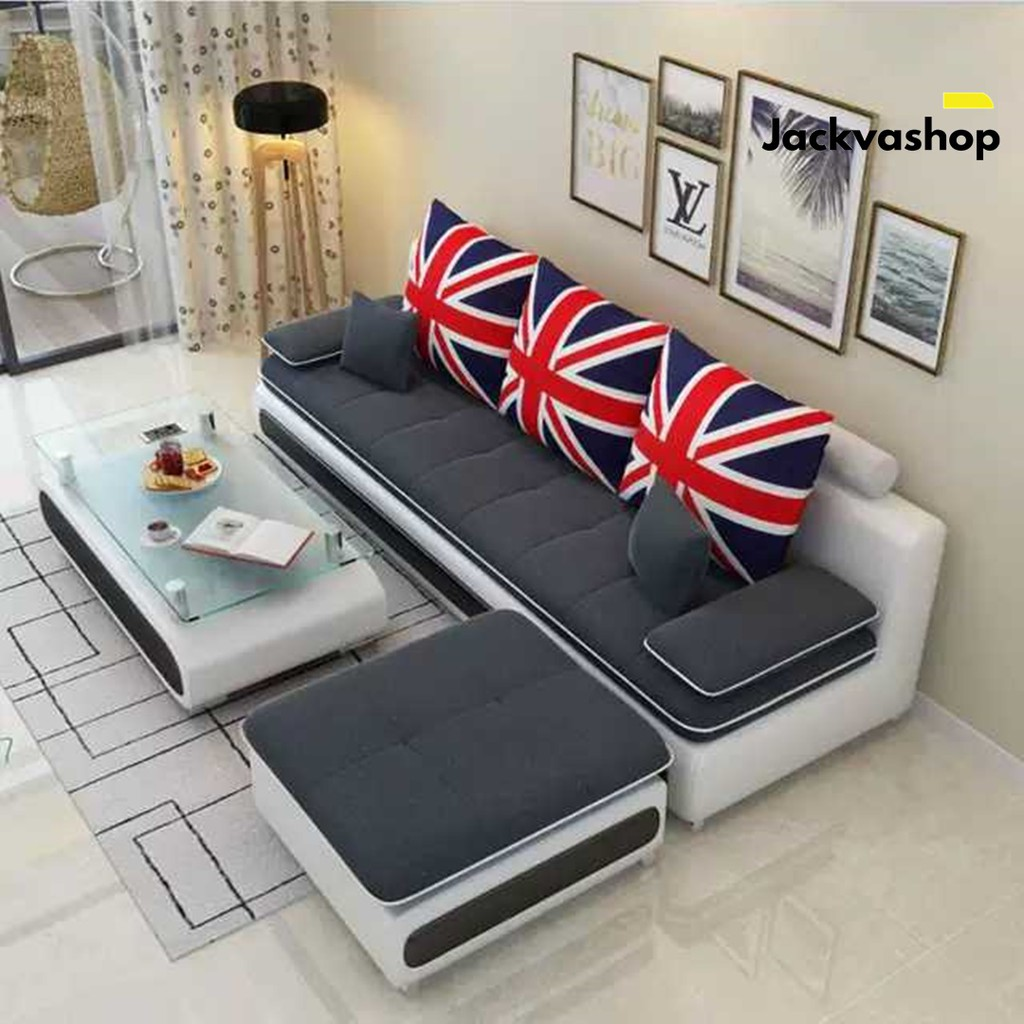bantal: (632, 323, 811, 572), (511, 270, 648, 485), (405, 205, 507, 403), (626, 482, 704, 608), (340, 295, 413, 389)
buku: (190, 503, 314, 569)
gelas: (138, 518, 181, 551)
kursi: (241, 618, 672, 981)
lampu: (221, 69, 335, 284)
lukisan: (730, 55, 852, 351), (863, 196, 968, 385), (562, 45, 649, 235), (649, 135, 718, 287), (652, 45, 728, 149)
meja: (25, 388, 404, 699)
sova: (274, 190, 952, 804)
